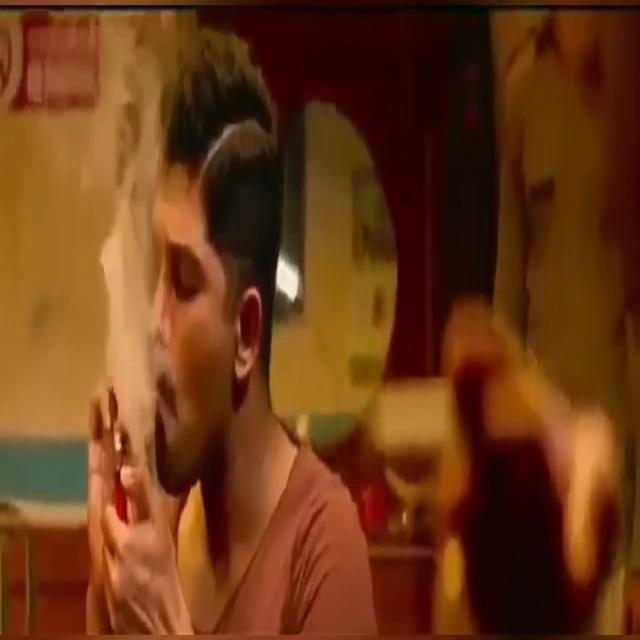smoking: (38, 147, 88, 528)
